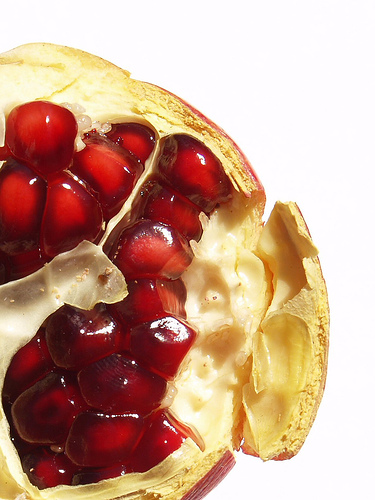pomogranate: (0, 37, 337, 498)
